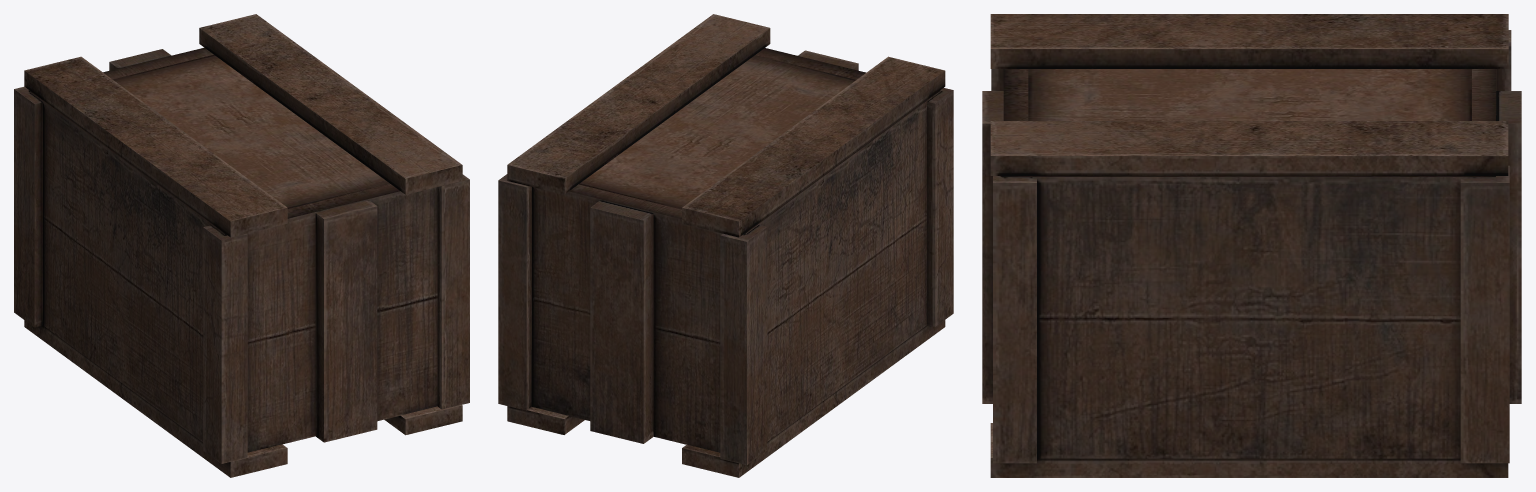
File: crate_simple_02.dae
3 renders of one model, left to right at view 1: azimuth 30°, elevation 25°; view 2: azimuth 150°, elevation 25°; view 3: azimuth 270°, elevation 25°, orthographic. The views are drawn at different scales.
Parts seen in each view (by area): view 1: crate_empty; view 2: crate_empty; view 3: crate_empty.
Part boxes in pixels (box(x1,y1,x2,y2)): crate_empty: box(14, 14, 469, 477); crate_empty: box(498, 14, 953, 477); crate_empty: box(982, 14, 1521, 477).
Bounding box in the file's own units: 0.9116 × 0.8954 × 1.36.
